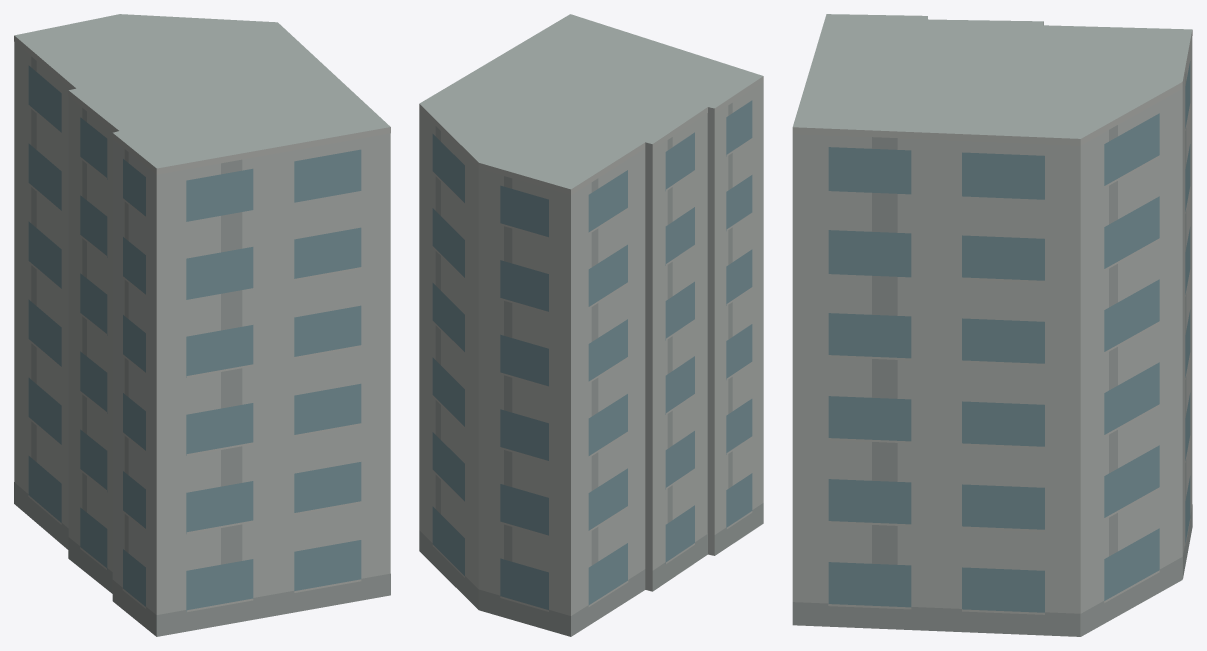
File: survey-upis-32798221.glb
The picture shows the model from 3 angles, left to right: view 1: azimuth 30°, elevation 25°; view 2: azimuth 150°, elevation 25°; view 3: azimuth 270°, elevation 25°; orthographic projection. The views are drawn at different scales.
Visible parts, largest first — view 1: survey-upis-32798221.tmp; view 2: survey-upis-32798221.tmp; view 3: survey-upis-32798221.tmp.
Part boxes in pixels (x1,y1,x2,y2): survey-upis-32798221.tmp: (14, 14, 390, 636); survey-upis-32798221.tmp: (419, 14, 763, 636); survey-upis-32798221.tmp: (792, 14, 1192, 636).
Bounding box in the file's own units: 9.8 × 18.2 × 13.25.
